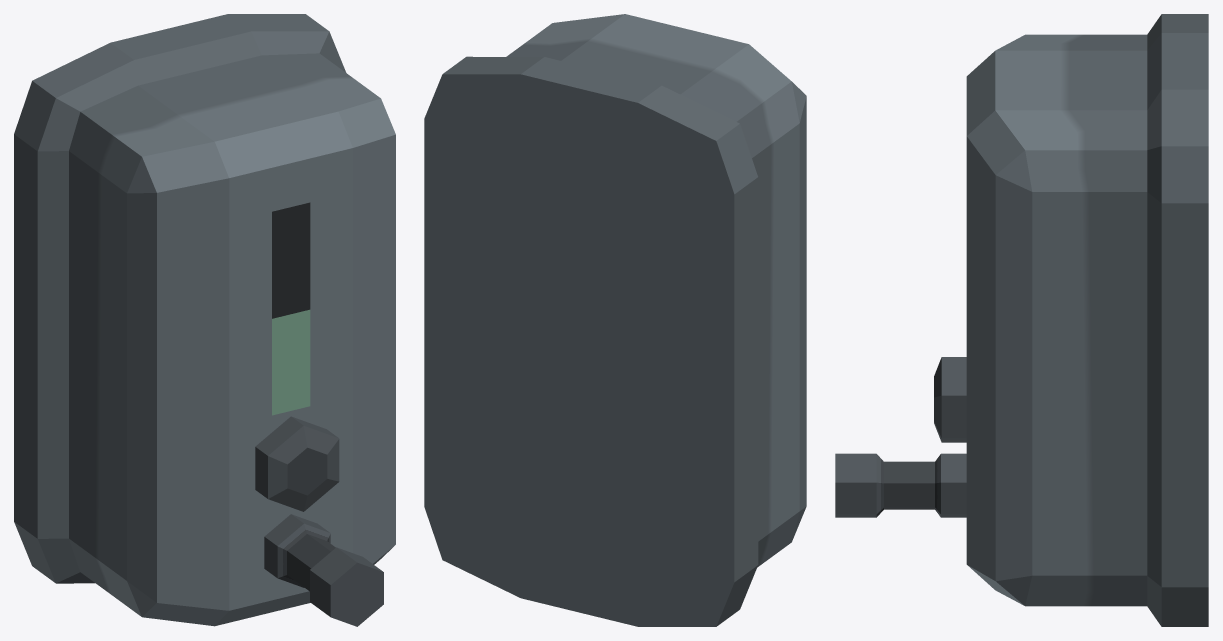
Rendered from SM_Prop_Soap_Dispenser_01.fbx.
3 views of the same model, side by side, from view 1: azimuth 30°, elevation 25°; view 2: azimuth 150°, elevation 25°; view 3: azimuth 270°, elevation 25° (orthographic).
Visible parts, largest first — view 1: SM_Prop_Soap_Dispenser_01; view 2: SM_Prop_Soap_Dispenser_01; view 3: SM_Prop_Soap_Dispenser_01.
Boxes of the visible parts, x1,y1,x2,y2 form: SM_Prop_Soap_Dispenser_01: [14, 14, 395, 626]; SM_Prop_Soap_Dispenser_01: [424, 14, 806, 626]; SM_Prop_Soap_Dispenser_01: [835, 14, 1208, 626].
Bounding box in the file's own units: 20.93 × 33.78 × 22.05.
